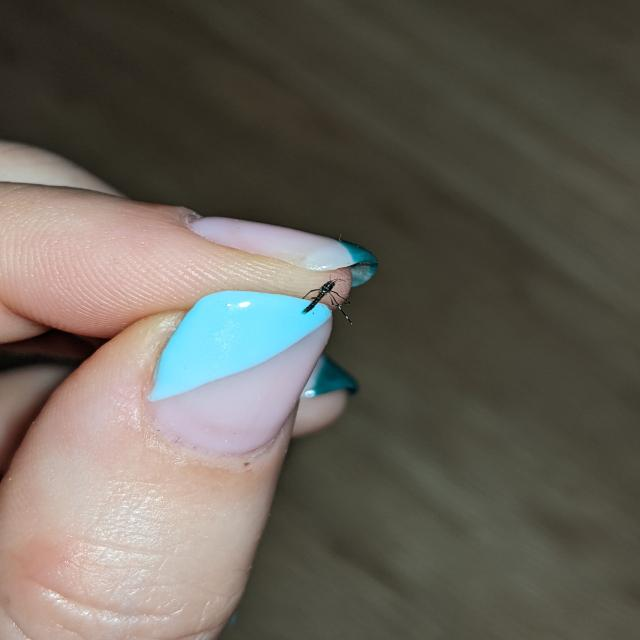albopictus: (288, 228, 382, 328)
